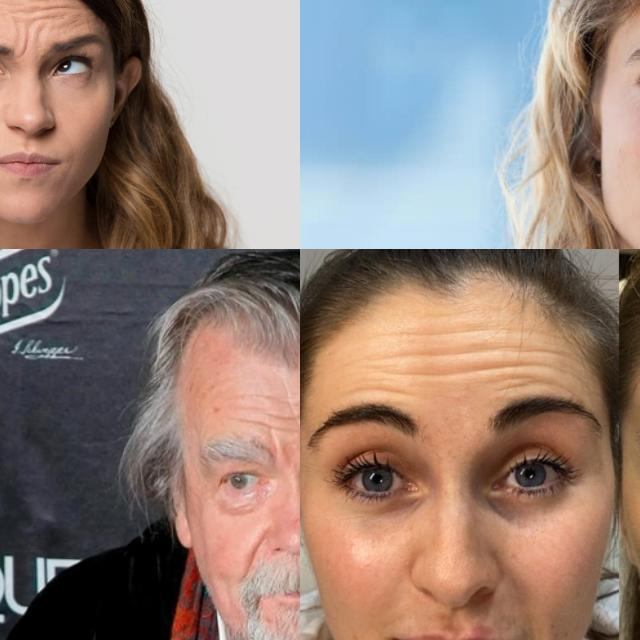forehead: (491, 334, 567, 398), (410, 336, 478, 386), (349, 371, 403, 404), (19, 0, 69, 23), (250, 409, 292, 436)
frown_line: (16, 34, 34, 61)
gummy_smile: (240, 532, 264, 578)
